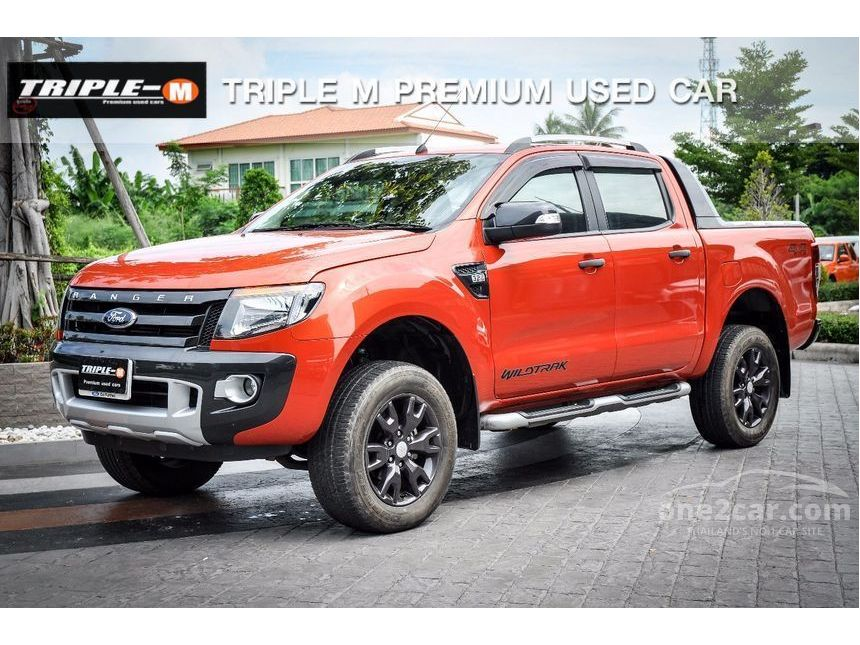pickup: (49, 136, 825, 537)
